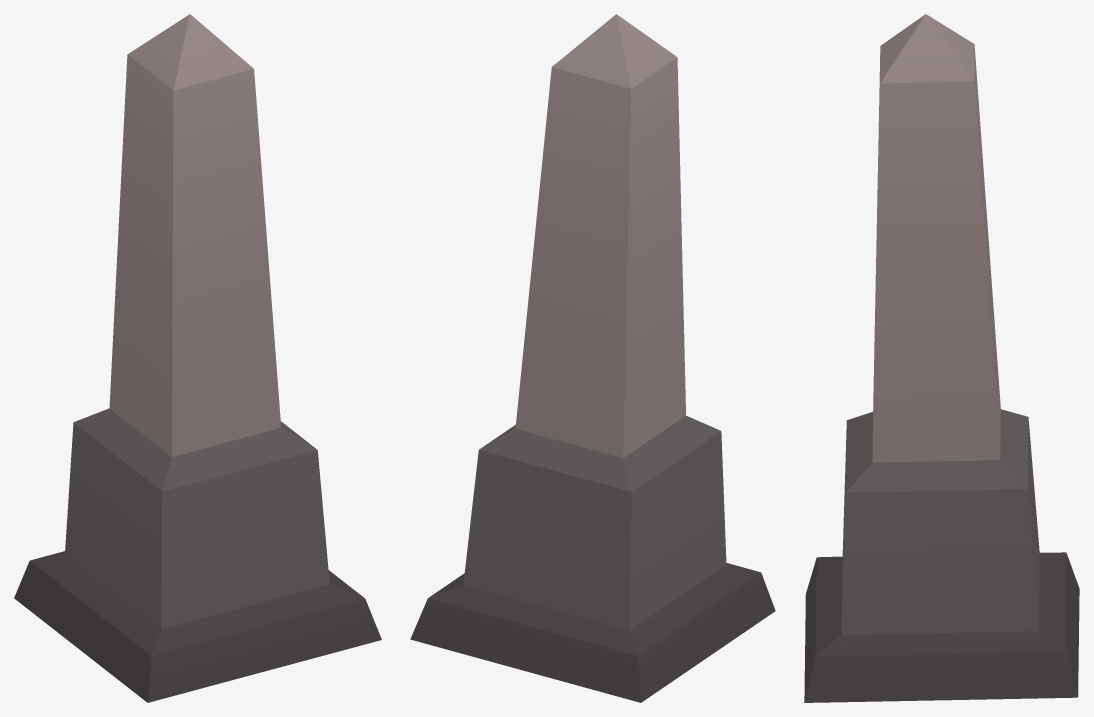
Rendered from village_town_obelisk.glb.
3 views of the same model, side by side, from view 1: azimuth 30°, elevation 25°; view 2: azimuth 150°, elevation 25°; view 3: azimuth 270°, elevation 25° (orthographic). The views are drawn at different scales.
Visible parts, largest first — view 1: Obelisk.001_Material.005_0; view 2: Obelisk.001_Material.005_0; view 3: Obelisk.001_Material.005_0.
Boxes of the visible parts, left/top/right/bottom form: Obelisk.001_Material.005_0: left=14, top=14, right=381, bottom=702; Obelisk.001_Material.005_0: left=410, top=14, right=775, bottom=702; Obelisk.001_Material.005_0: left=804, top=14, right=1079, bottom=702.
Size of the model in its own units: 0.811 by 2.05 by 0.8116.
1 material, 1 textured.
